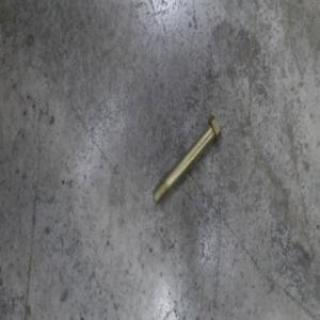Bolttrack_idkeyframe: (151, 111, 222, 206)
